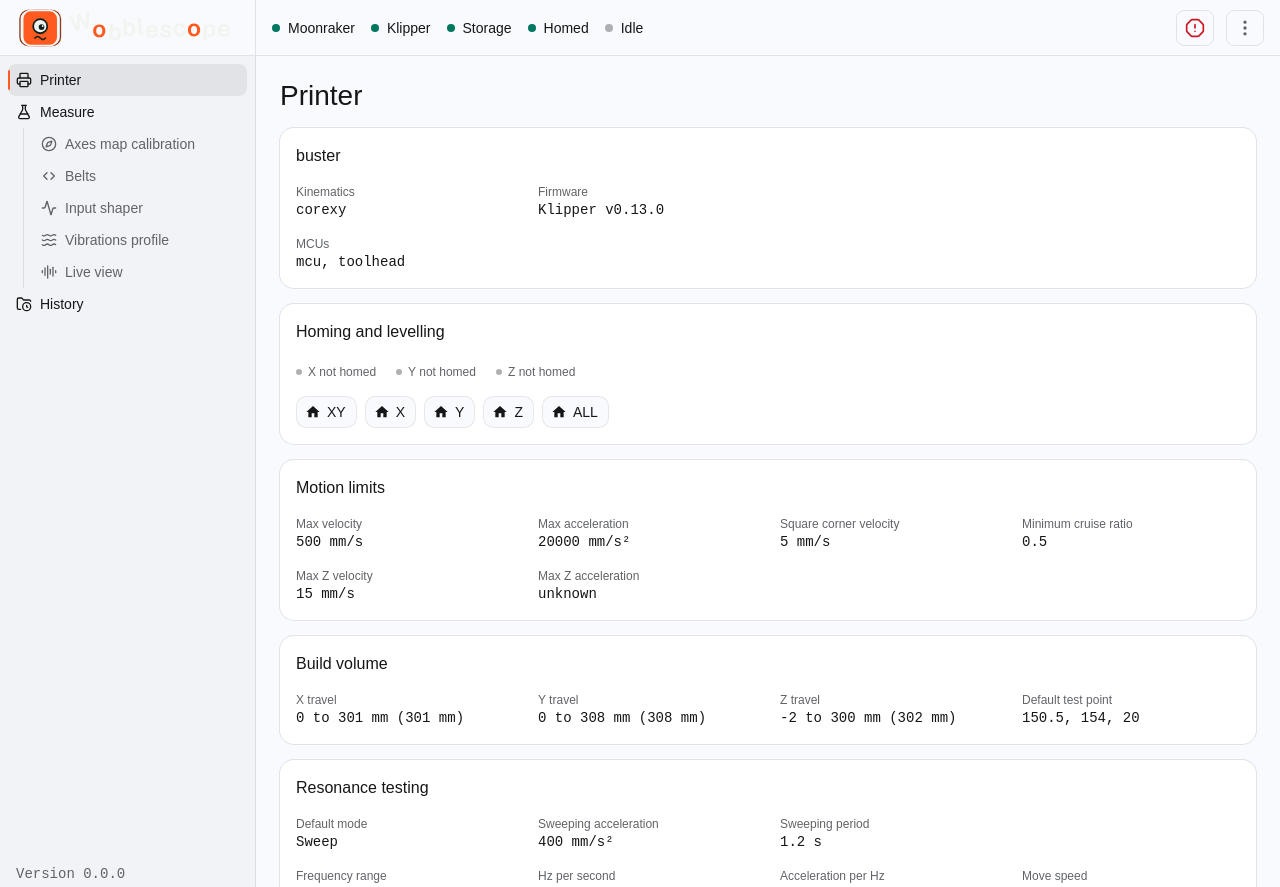
the printer card › shows an error from the daemon as a toast
The width and height of the screenshot is (1280, 887).
What coordinates should you click on to do the following:
click the button named "Home Z"
I would click on:
 (509, 412)
Its box is [483, 396, 534, 428].
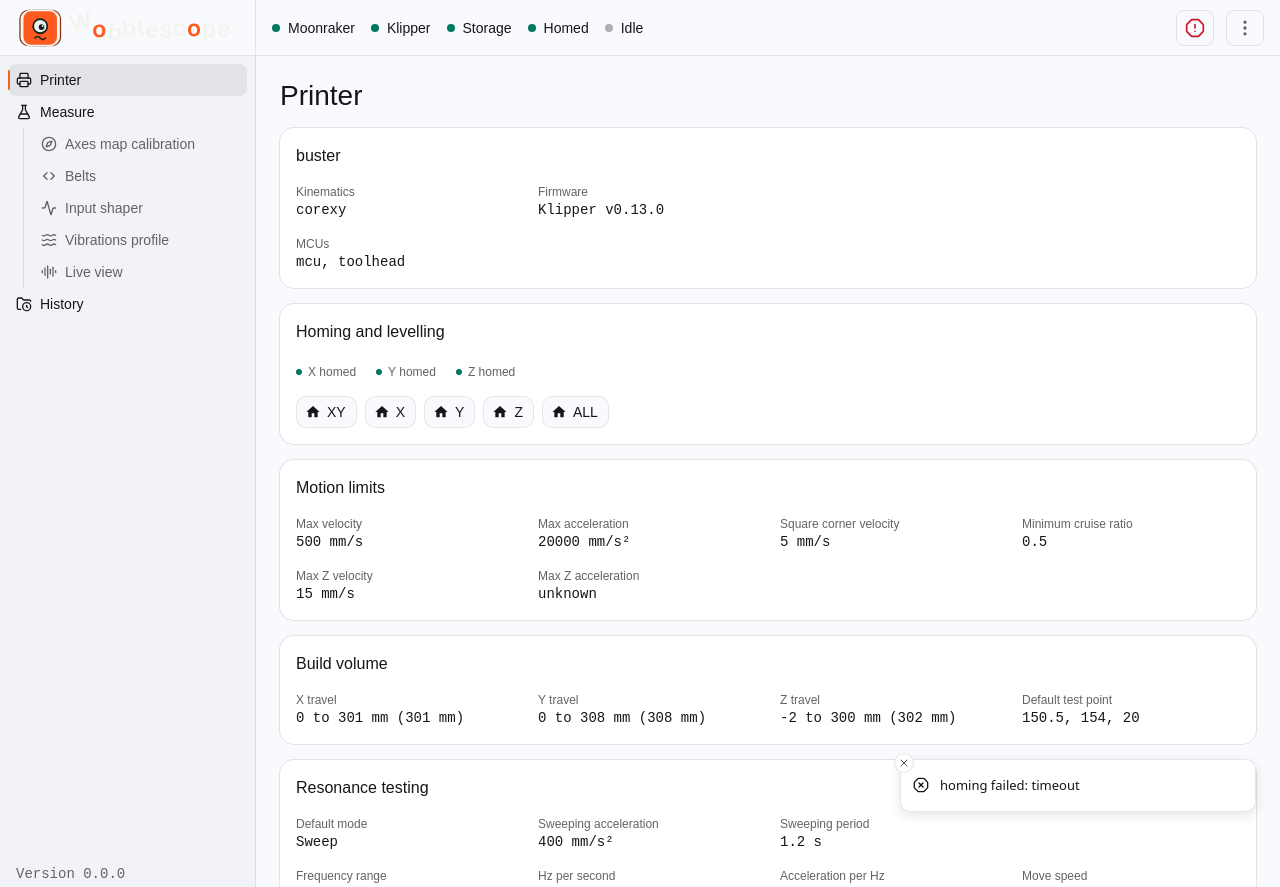
Check: the text "homing failed: timeout" is shown, box [940, 776, 1080, 795]
